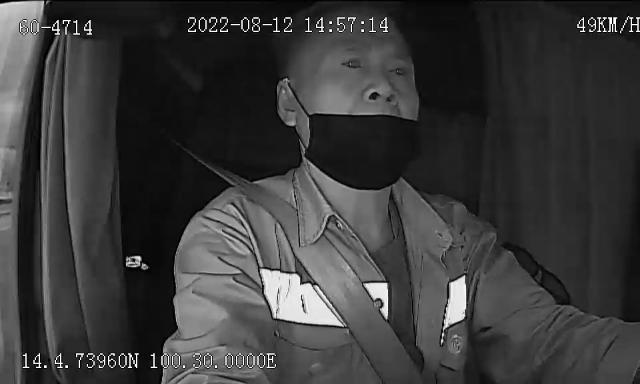SafeDriving: (336, 51, 372, 79), (380, 57, 414, 84)
Seatbelt: (181, 142, 419, 384)
